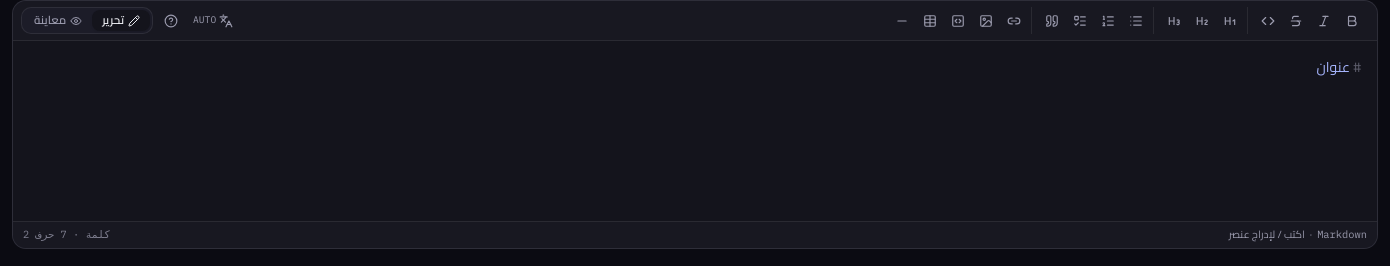
it: MarkdownEditor › renders the document in preview and hides the editor
The width and height of the screenshot is (1390, 266).
Click the button "معاينة" at (58, 20), box [24,10,92,31]
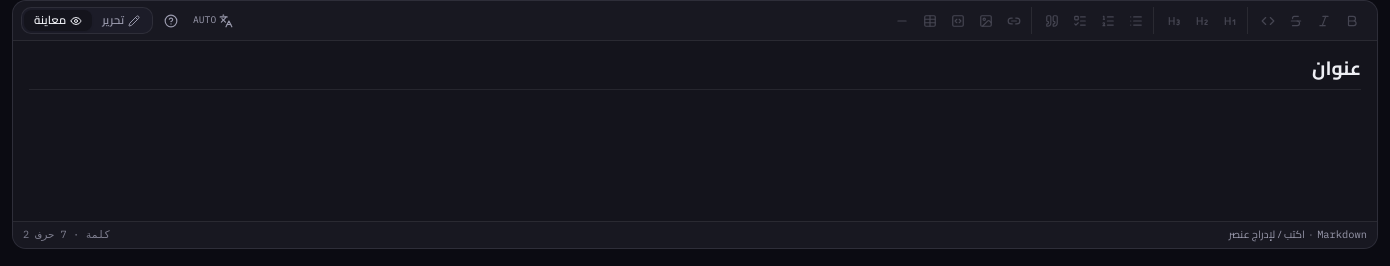
Check: the heading "عنوان" is shown, box [29,55,1361,90]
Check: the text box labelled "الوصف" is gone
